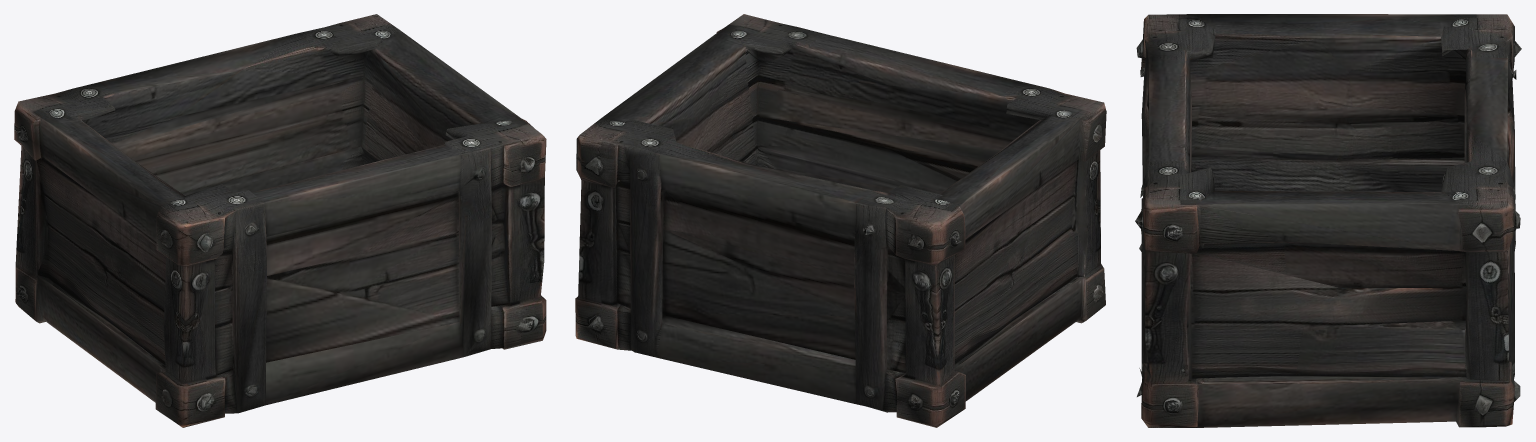
Rendered from prop-crate.glb.
3 views of the same model, side by side, from view 1: azimuth 30°, elevation 25°; view 2: azimuth 150°, elevation 25°; view 3: azimuth 270°, elevation 25° (orthographic). The views are drawn at different scales.
Size of the model in its own units: 2 by 1.04 by 1.61.
1 material, 1 textured.
